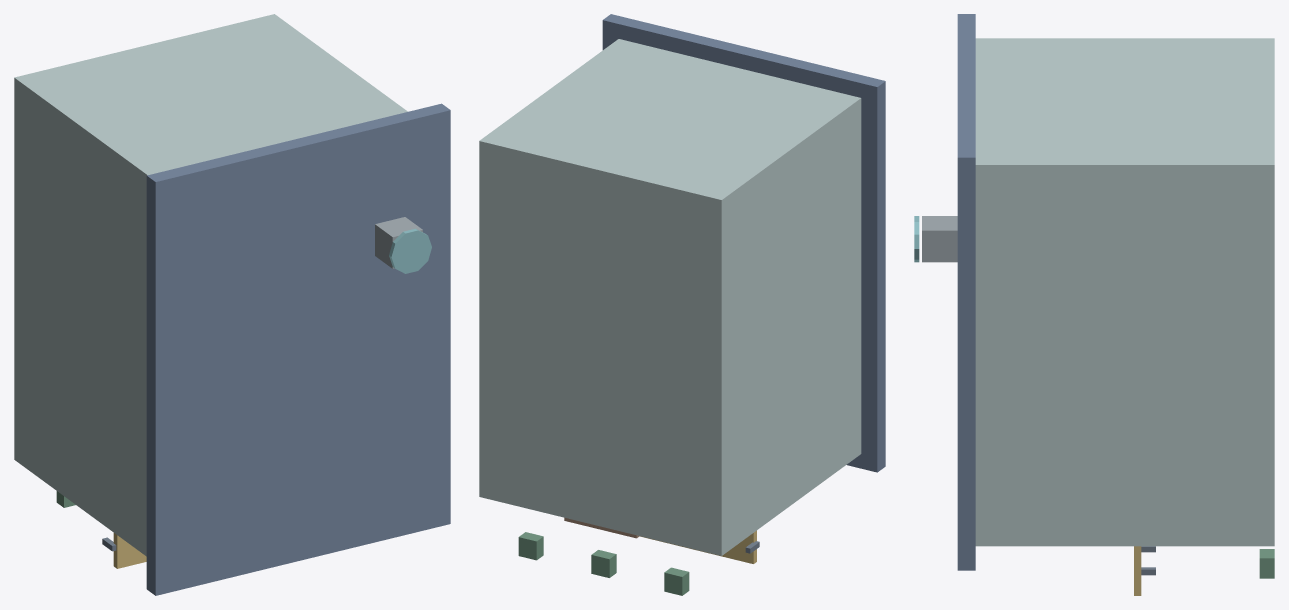
Rendered from terrace_home.glb.
3 renders of one model, left to right at view 1: azimuth 30°, elevation 25°; view 2: azimuth 150°, elevation 25°; view 3: azimuth 270°, elevation 25°, orthographic. The views are drawn at different scales.
Visible parts, largest first — view 1: roof2, wall2, glass, metal2, sun; view 2: wall2, roof2, green, sun; view 3: wall2, roof2, metal2, green.
Part boxes in pixels (box(x1,y1,x2,y2)): roof2: box(146, 103, 450, 595); wall2: box(14, 14, 407, 556); glass: box(389, 228, 431, 273); metal2: box(375, 217, 422, 268); sun: box(113, 533, 146, 568); wall2: box(479, 39, 861, 555); roof2: box(602, 14, 885, 472); green: box(518, 532, 689, 595); sun: box(640, 530, 756, 563); wall2: box(975, 38, 1274, 546); roof2: box(957, 14, 975, 570); metal2: box(922, 216, 957, 262); green: box(1259, 549, 1274, 578).
Size of the model in its own units: 6.82 by 10.24 by 7.23.
